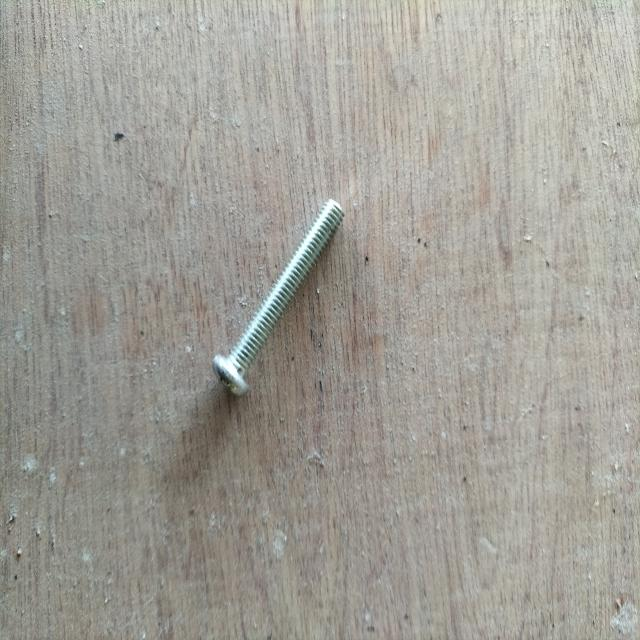bolt: (213, 198, 344, 397)
